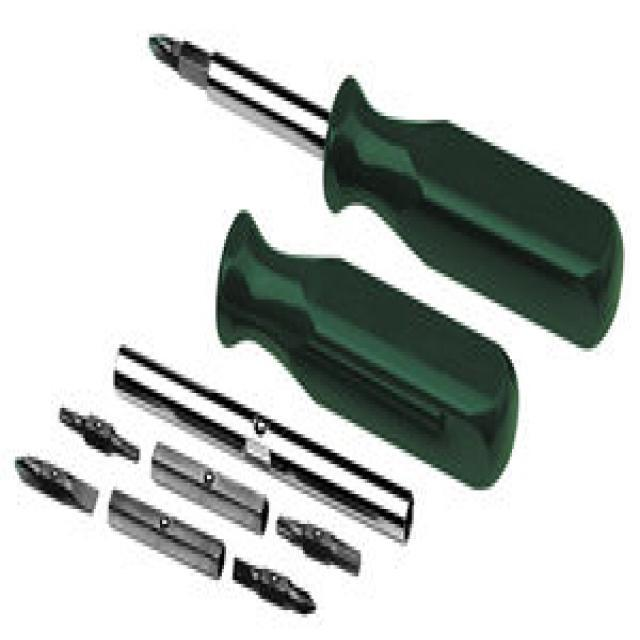screwdriver: (140, 24, 622, 340)
